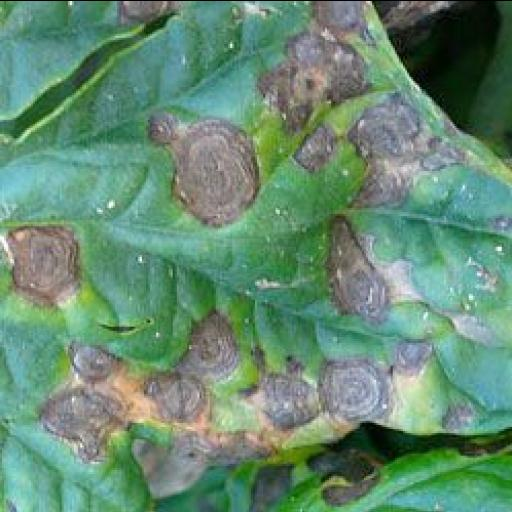Late Blight: (2, 2, 510, 508)
